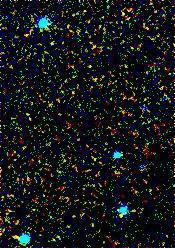star: (109, 202, 139, 232)
